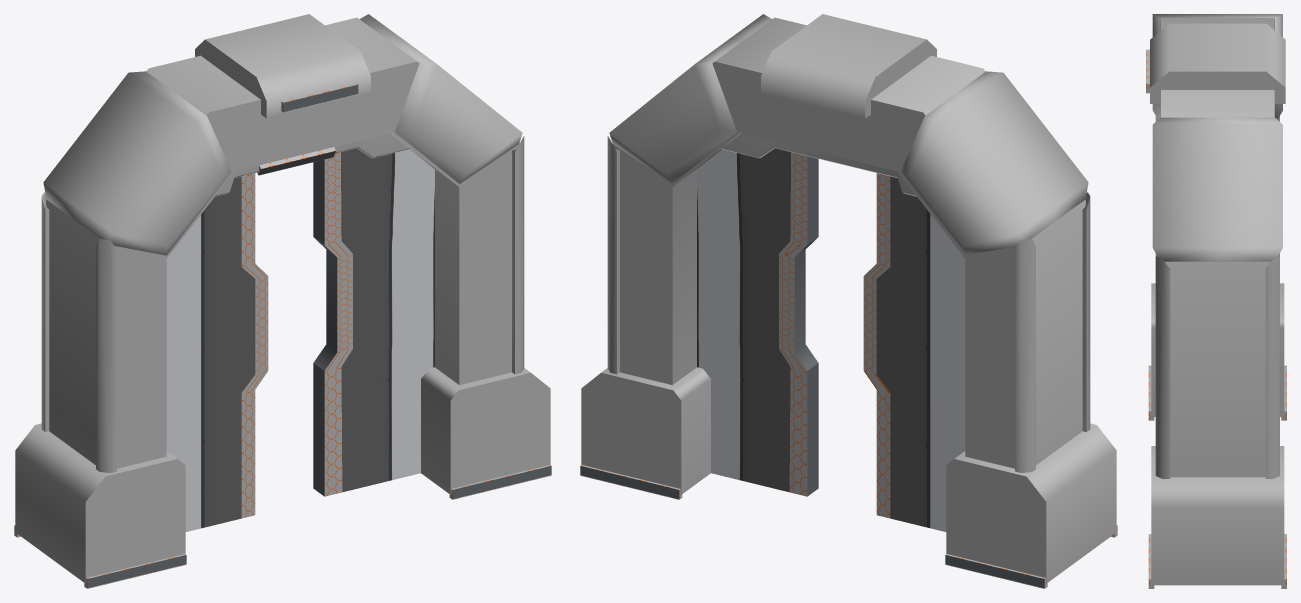
File: Door.fbx
3 renders of one model, left to right at view 1: azimuth 30°, elevation 25°; view 2: azimuth 150°, elevation 25°; view 3: azimuth 270°, elevation 25°, orthographic. The views are drawn at different scales.
Visible parts, largest first — view 1: polySurface79, polySurface78, polySurface77, pCube23, polySurface87, pCube27, polySurface88, pCube25, pCube26; view 2: polySurface79, polySurface78, polySurface77, pCube23, polySurface87, pCube27, polySurface88; view 3: polySurface79, polySurface78, polySurface87, pCube27.
Boxes of the visible parts, <box> form: polySurface79: <box>15,14,550,583</box>; polySurface78: <box>46,17,518,468</box>; polySurface77: <box>313,148,434,496</box>; pCube23: <box>166,173,268,531</box>; polySurface87: <box>195,14,370,118</box>; pCube27: <box>14,465,551,588</box>; polySurface88: <box>215,133,409,196</box>; pCube25: <box>281,83,358,112</box>; pCube26: <box>257,147,335,175</box>; polySurface79: <box>581,14,1116,583</box>; polySurface78: <box>613,17,1085,468</box>; polySurface77: <box>697,148,818,496</box>; pCube23: <box>863,173,965,531</box>; polySurface87: <box>761,14,936,118</box>; pCube27: <box>580,465,1117,588</box>; polySurface88: <box>722,133,916,196</box>; polySurface79: <box>1151,14,1284,585</box>; polySurface78: <box>1161,18,1274,477</box>; polySurface87: <box>1150,23,1285,103</box>; pCube27: <box>1148,365,1286,588</box>.
Size of the model in its own units: 4.46 by 4.22 by 1.24.
